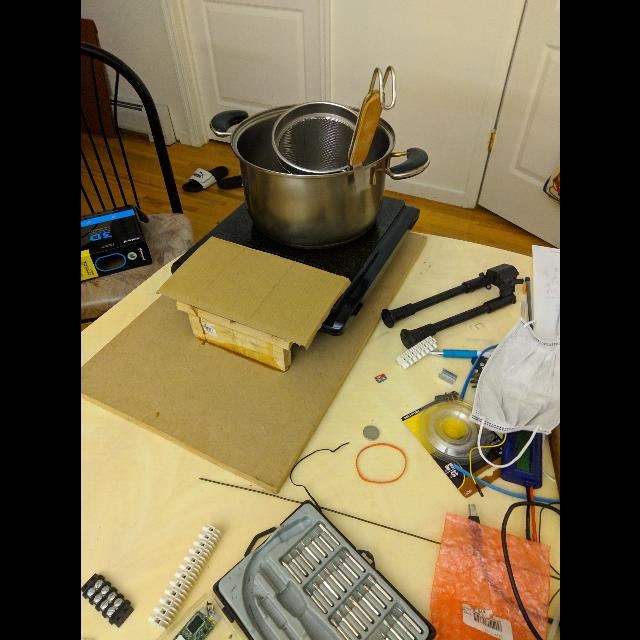Handle: (347, 62, 403, 170)
Strainer: (273, 101, 365, 175)
